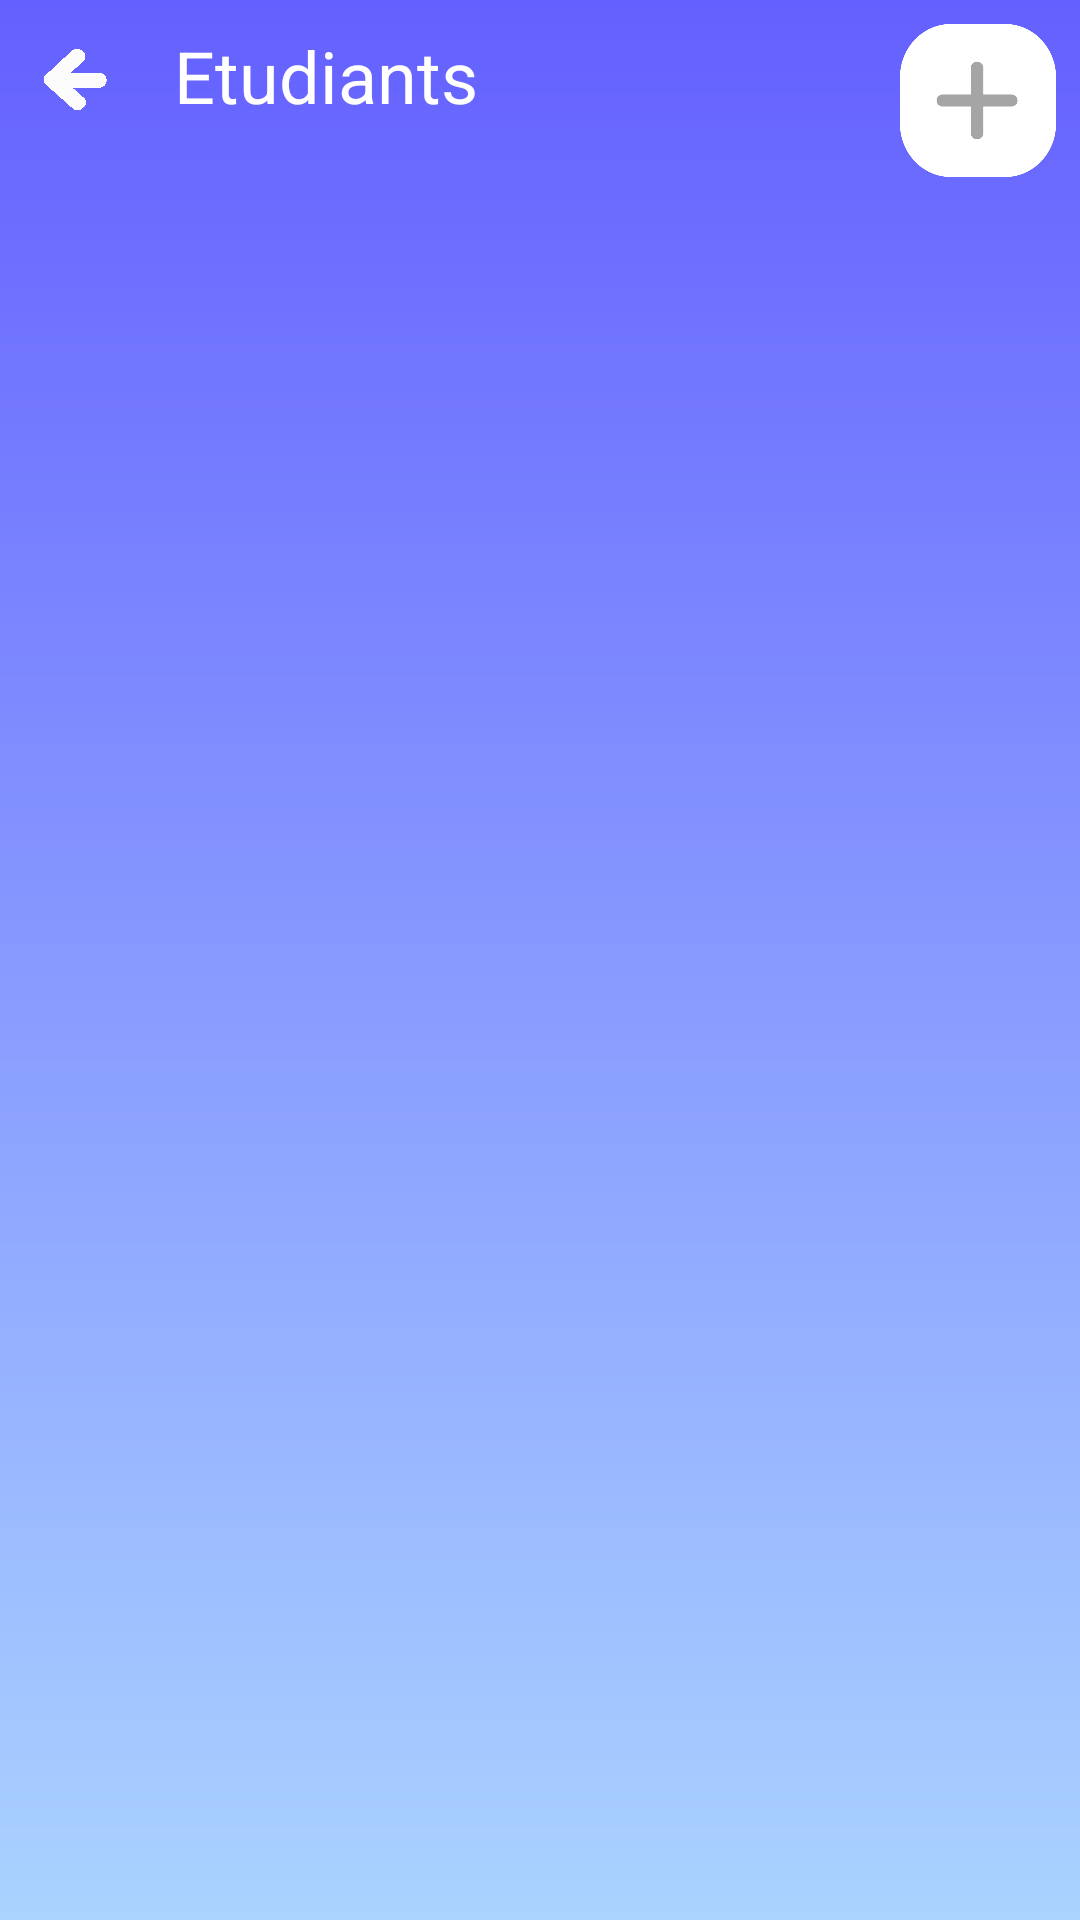

Icon click points for this 1080 × 1920 phone screenshot, format (x=x, y=y):
add: (x=978, y=100)
